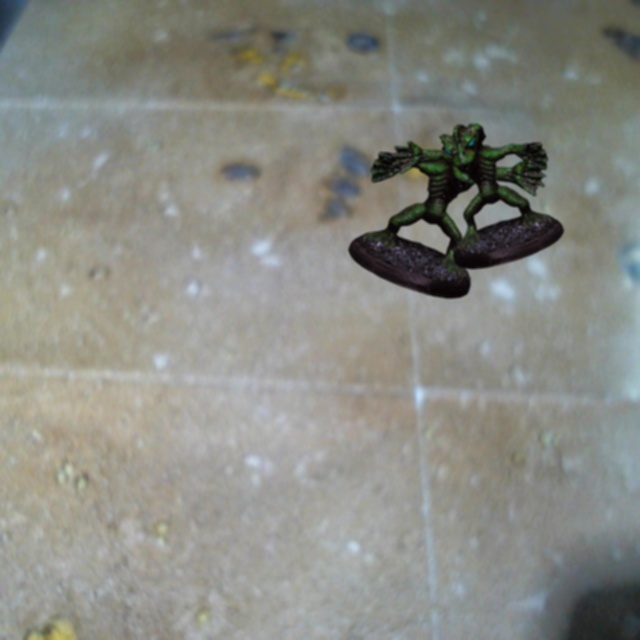pieza_juego: (348, 134, 545, 298), (392, 123, 563, 268)
